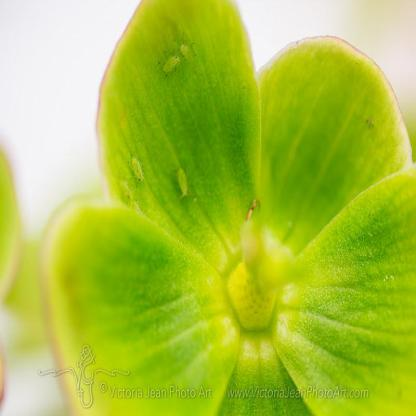aphid: (171, 160, 194, 203), (176, 37, 206, 68), (128, 145, 148, 187), (163, 48, 181, 85), (118, 183, 138, 212)
